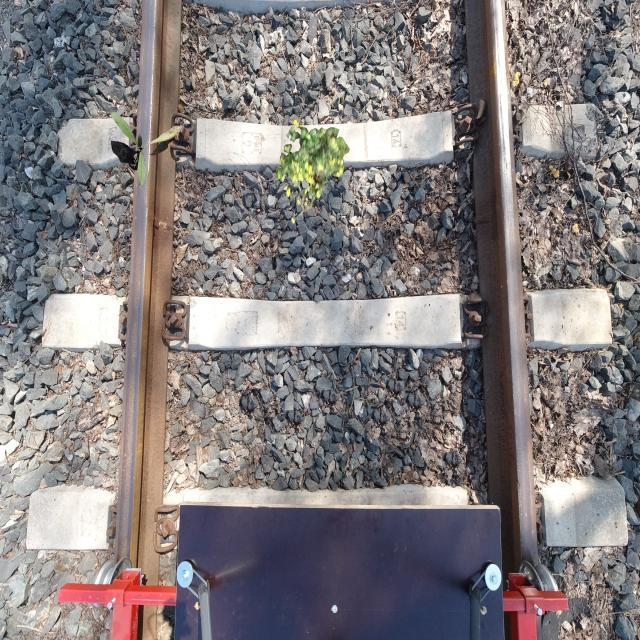Plant: (275, 119, 350, 224), (111, 112, 182, 187)
